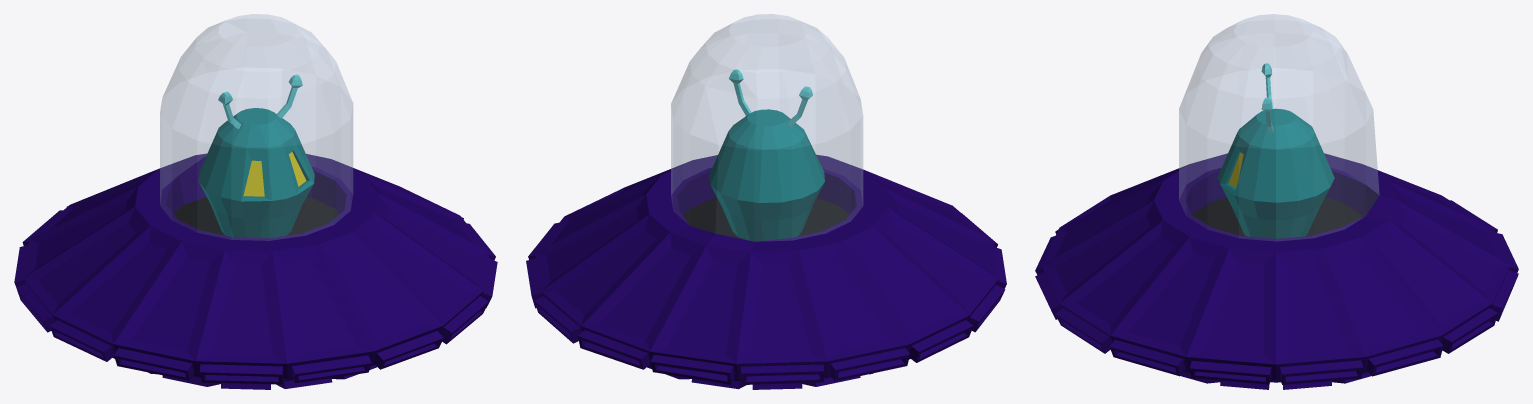
Rendered from FlyingSaucer2.fbx.
3 views of the same model, side by side, from view 1: azimuth 30°, elevation 25°; view 2: azimuth 150°, elevation 25°; view 3: azimuth 270°, elevation 25° (orthographic).
Parts seen in each view (by area): view 1: Cylinder; view 2: Cylinder; view 3: Cylinder.
Boxes of the visible parts, x1=… form: Cylinder: x1=14, y1=14, x2=497, y2=389; Cylinder: x1=526, y1=14, x2=1006, y2=389; Cylinder: x1=1035, y1=14, x2=1518, y2=389.
Bounding box in the file's own units: 4.01 × 2.87 × 4.01.
